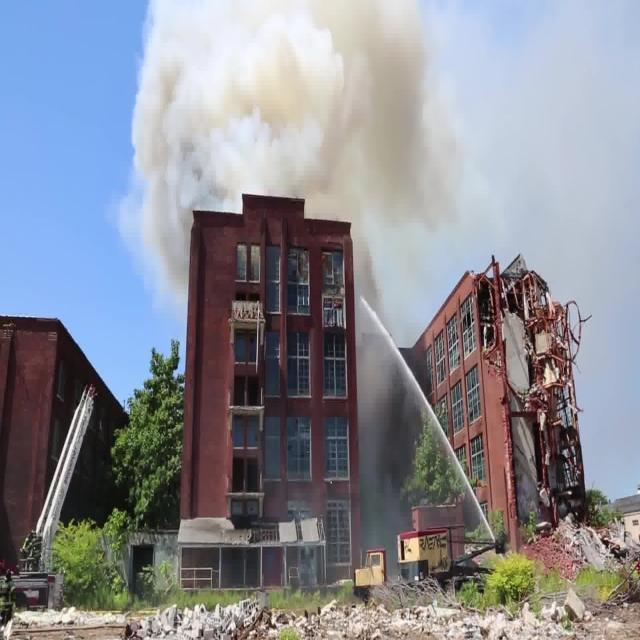Smoke: (148, 2, 437, 274)
